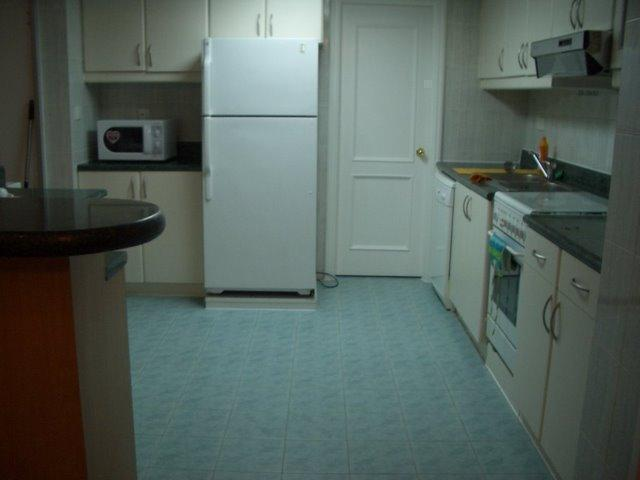Armario: (518, 222, 578, 473), (454, 182, 486, 343)
Electrodomestico: (205, 38, 315, 302), (487, 195, 516, 403), (429, 172, 450, 301)
Puerta: (336, 6, 425, 276)
